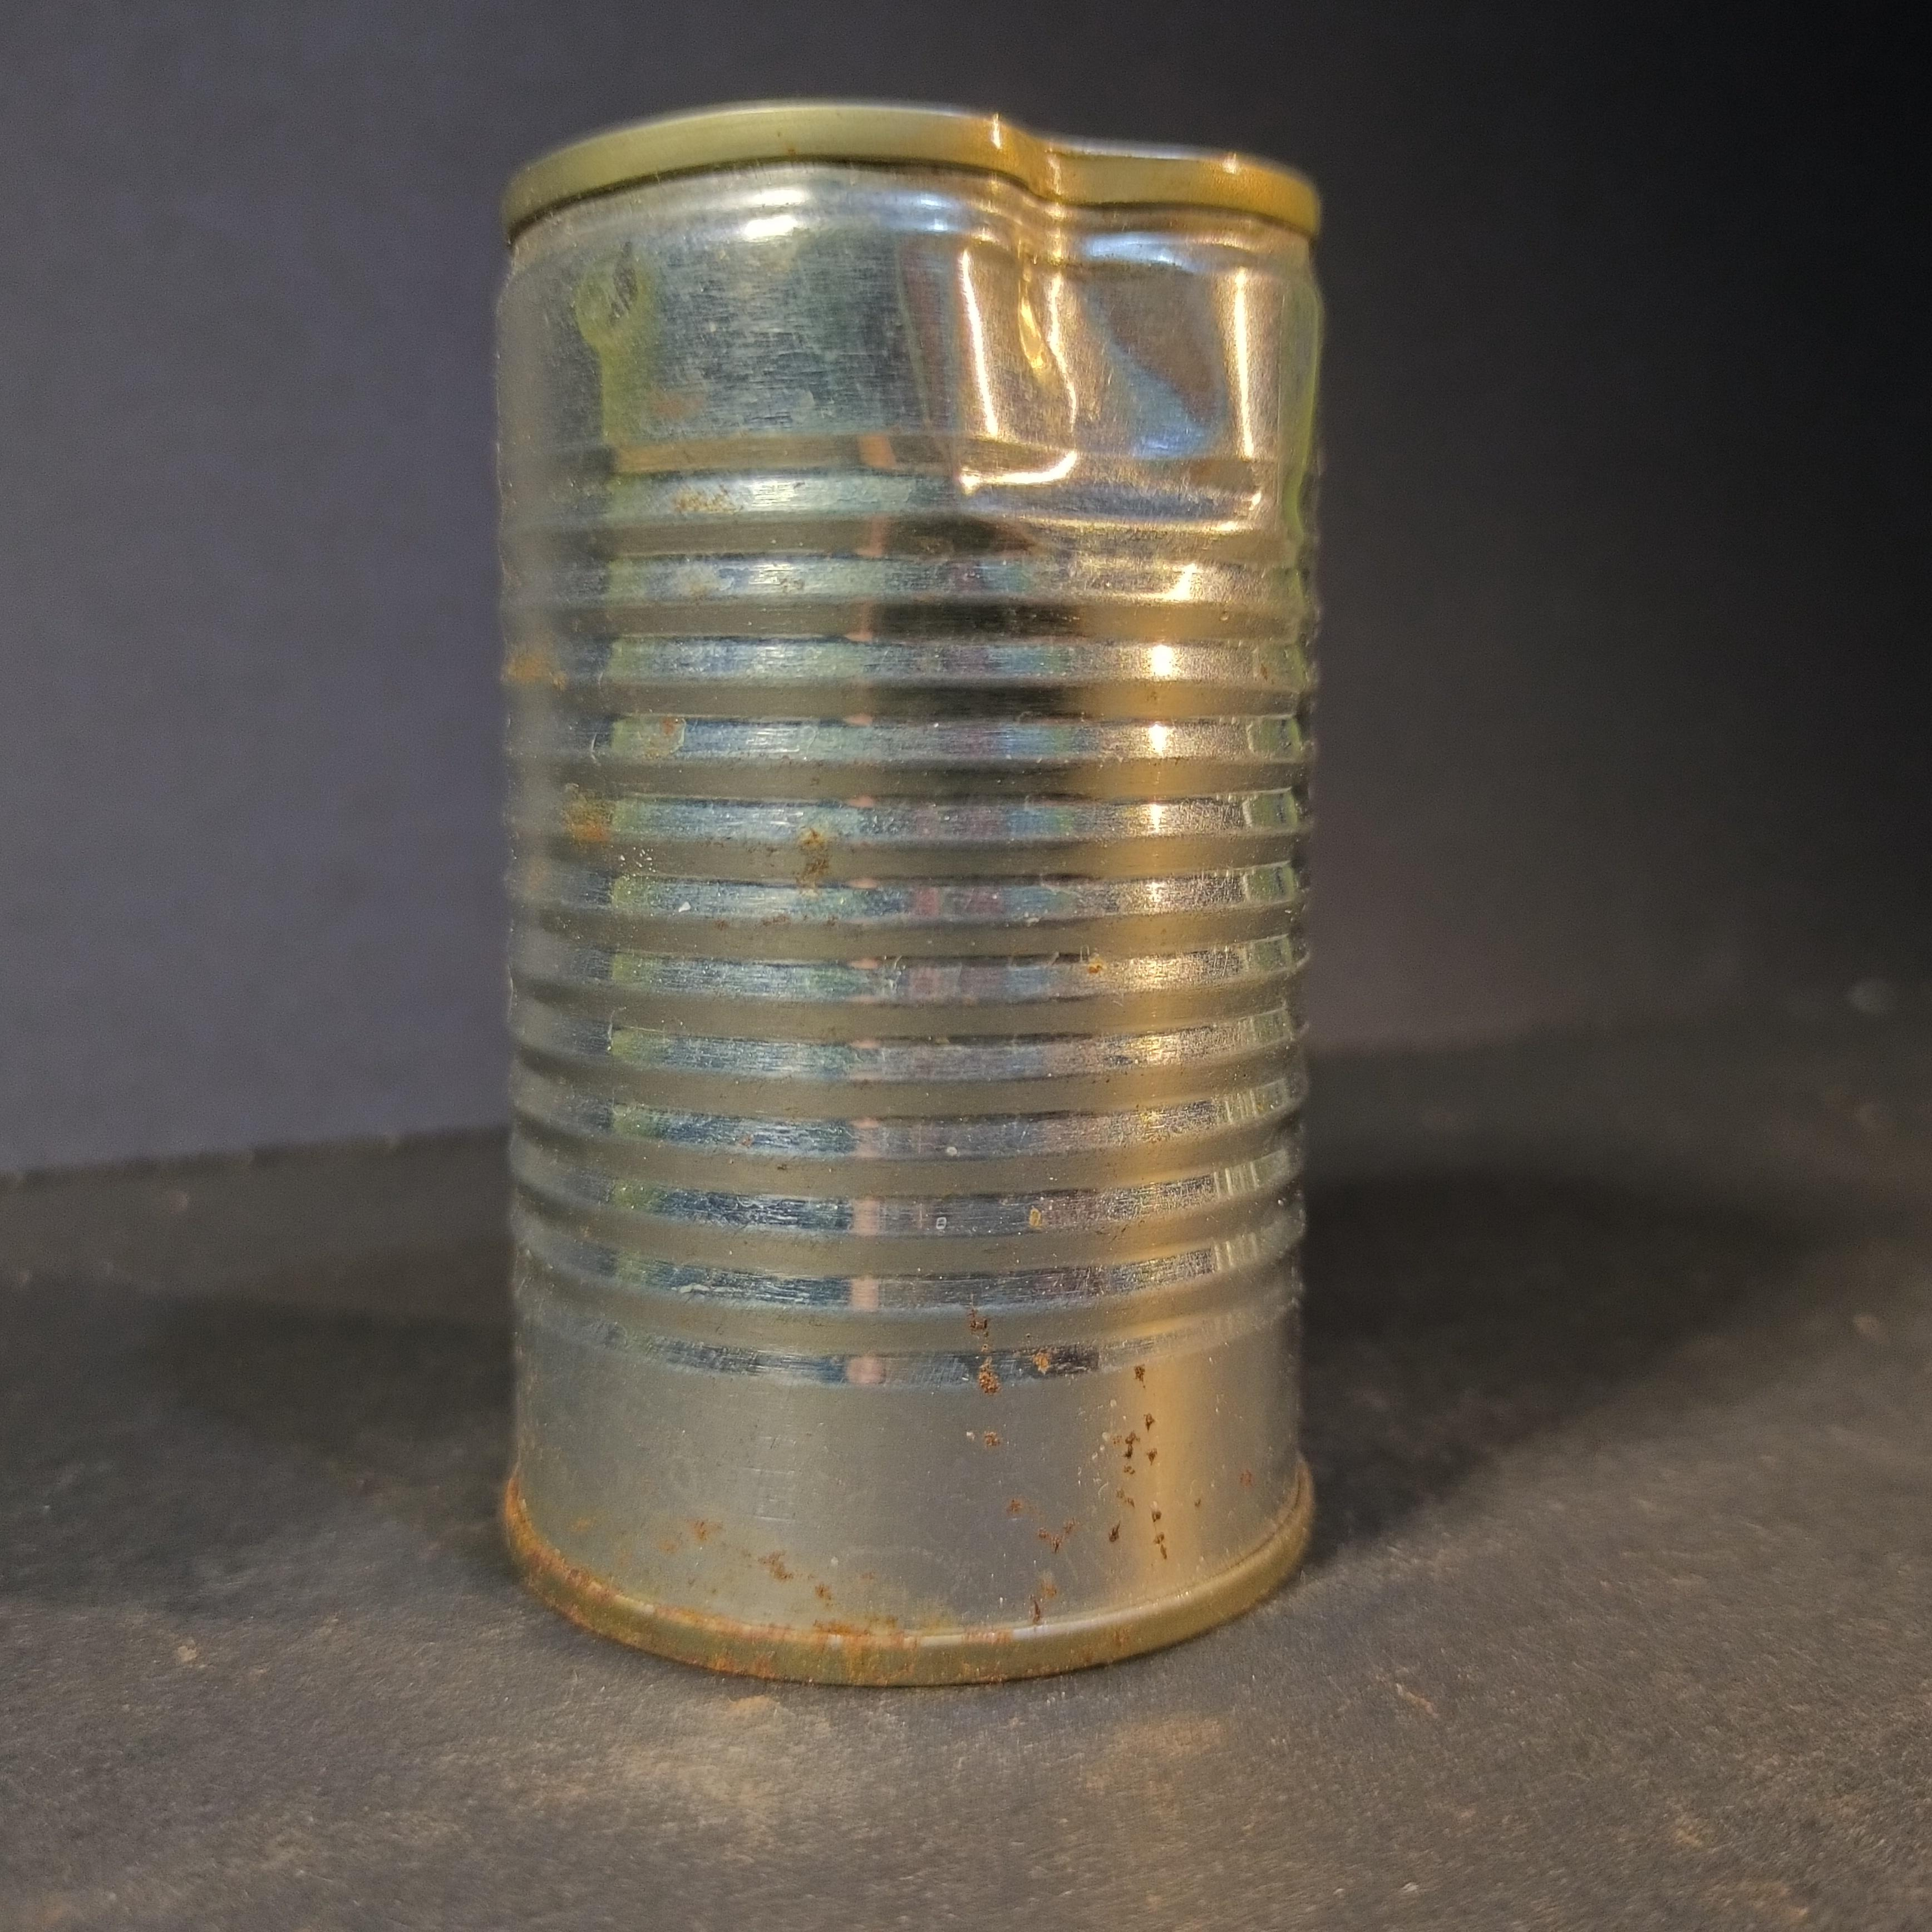Critical Defect: (479, 92, 1330, 1700)
